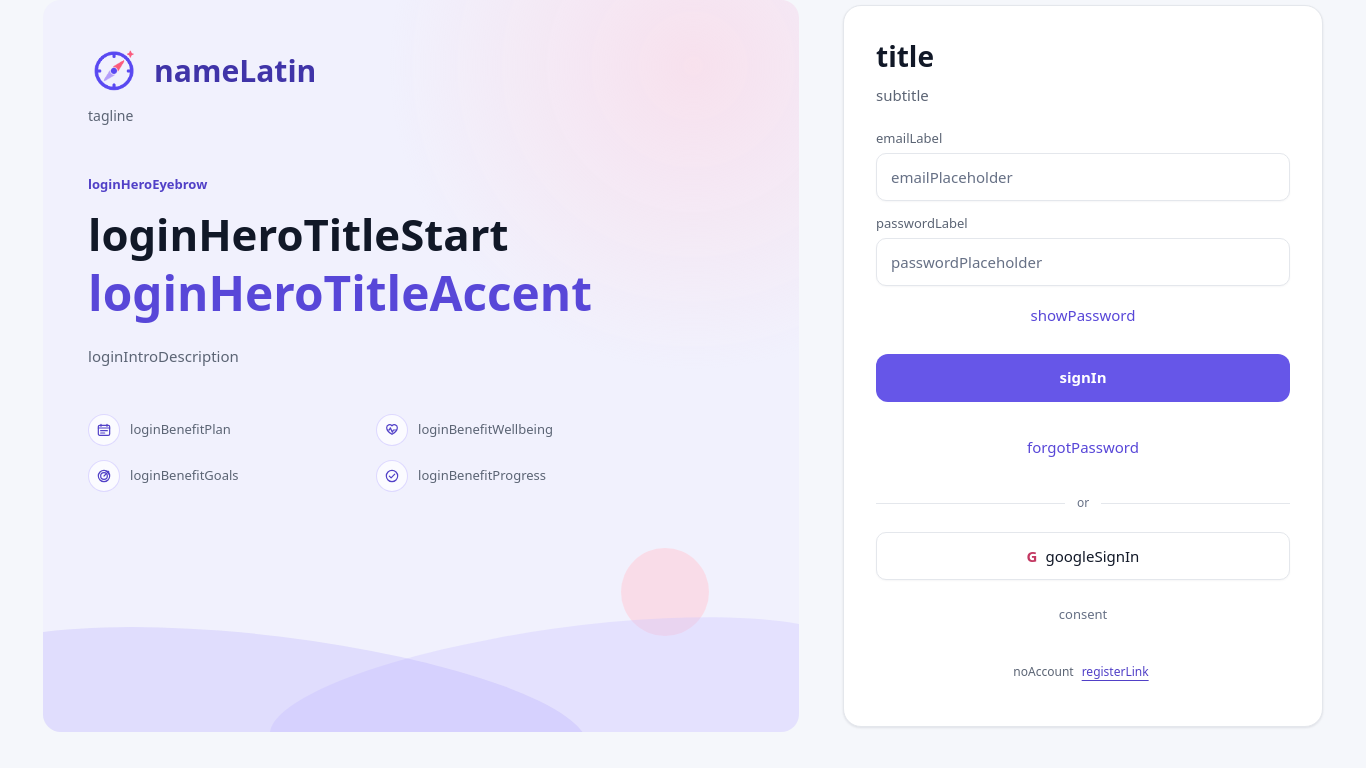
Test: LoginForm › recovers cleanly from Google and network errors
Click the button "G googleSignIn".
click(1083, 556)  # box [876,532,1290,580]
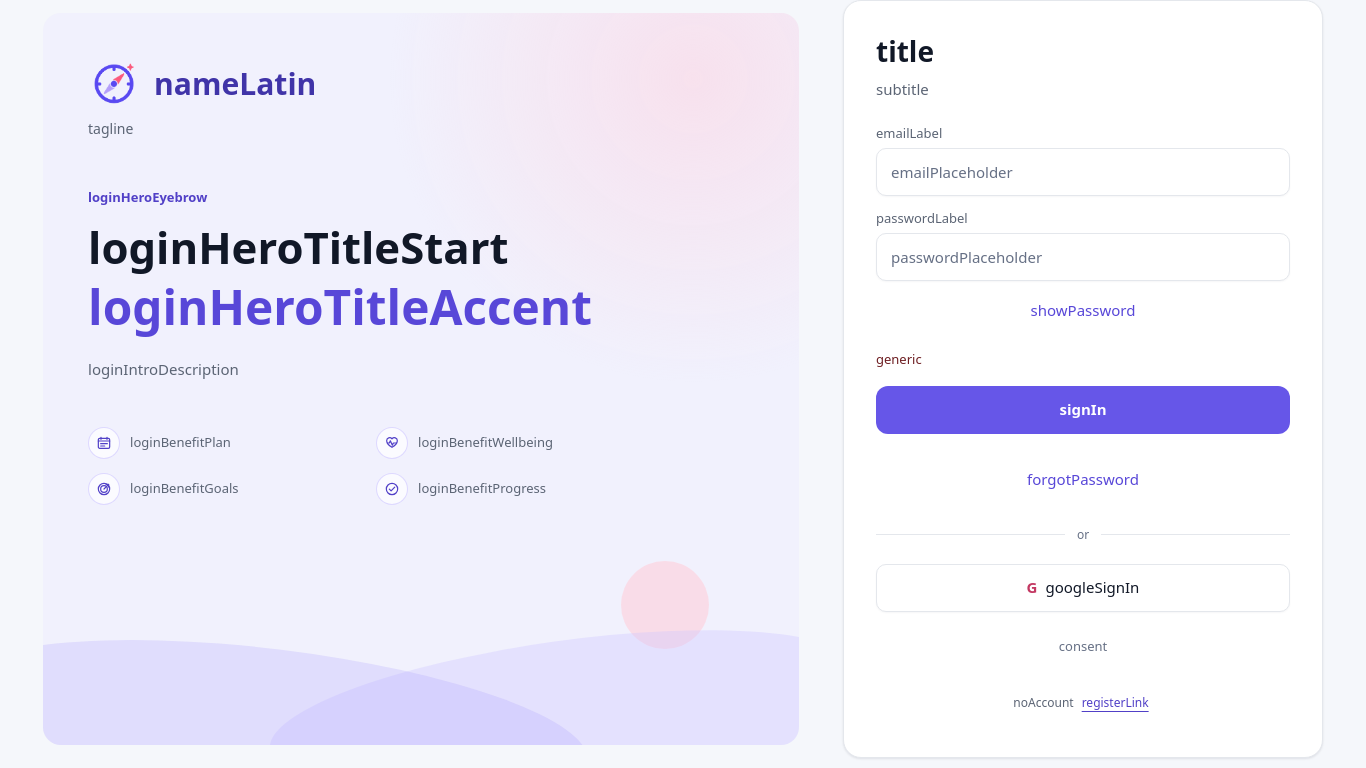
Expected: the message reads "generic", [876,350,922,368]
